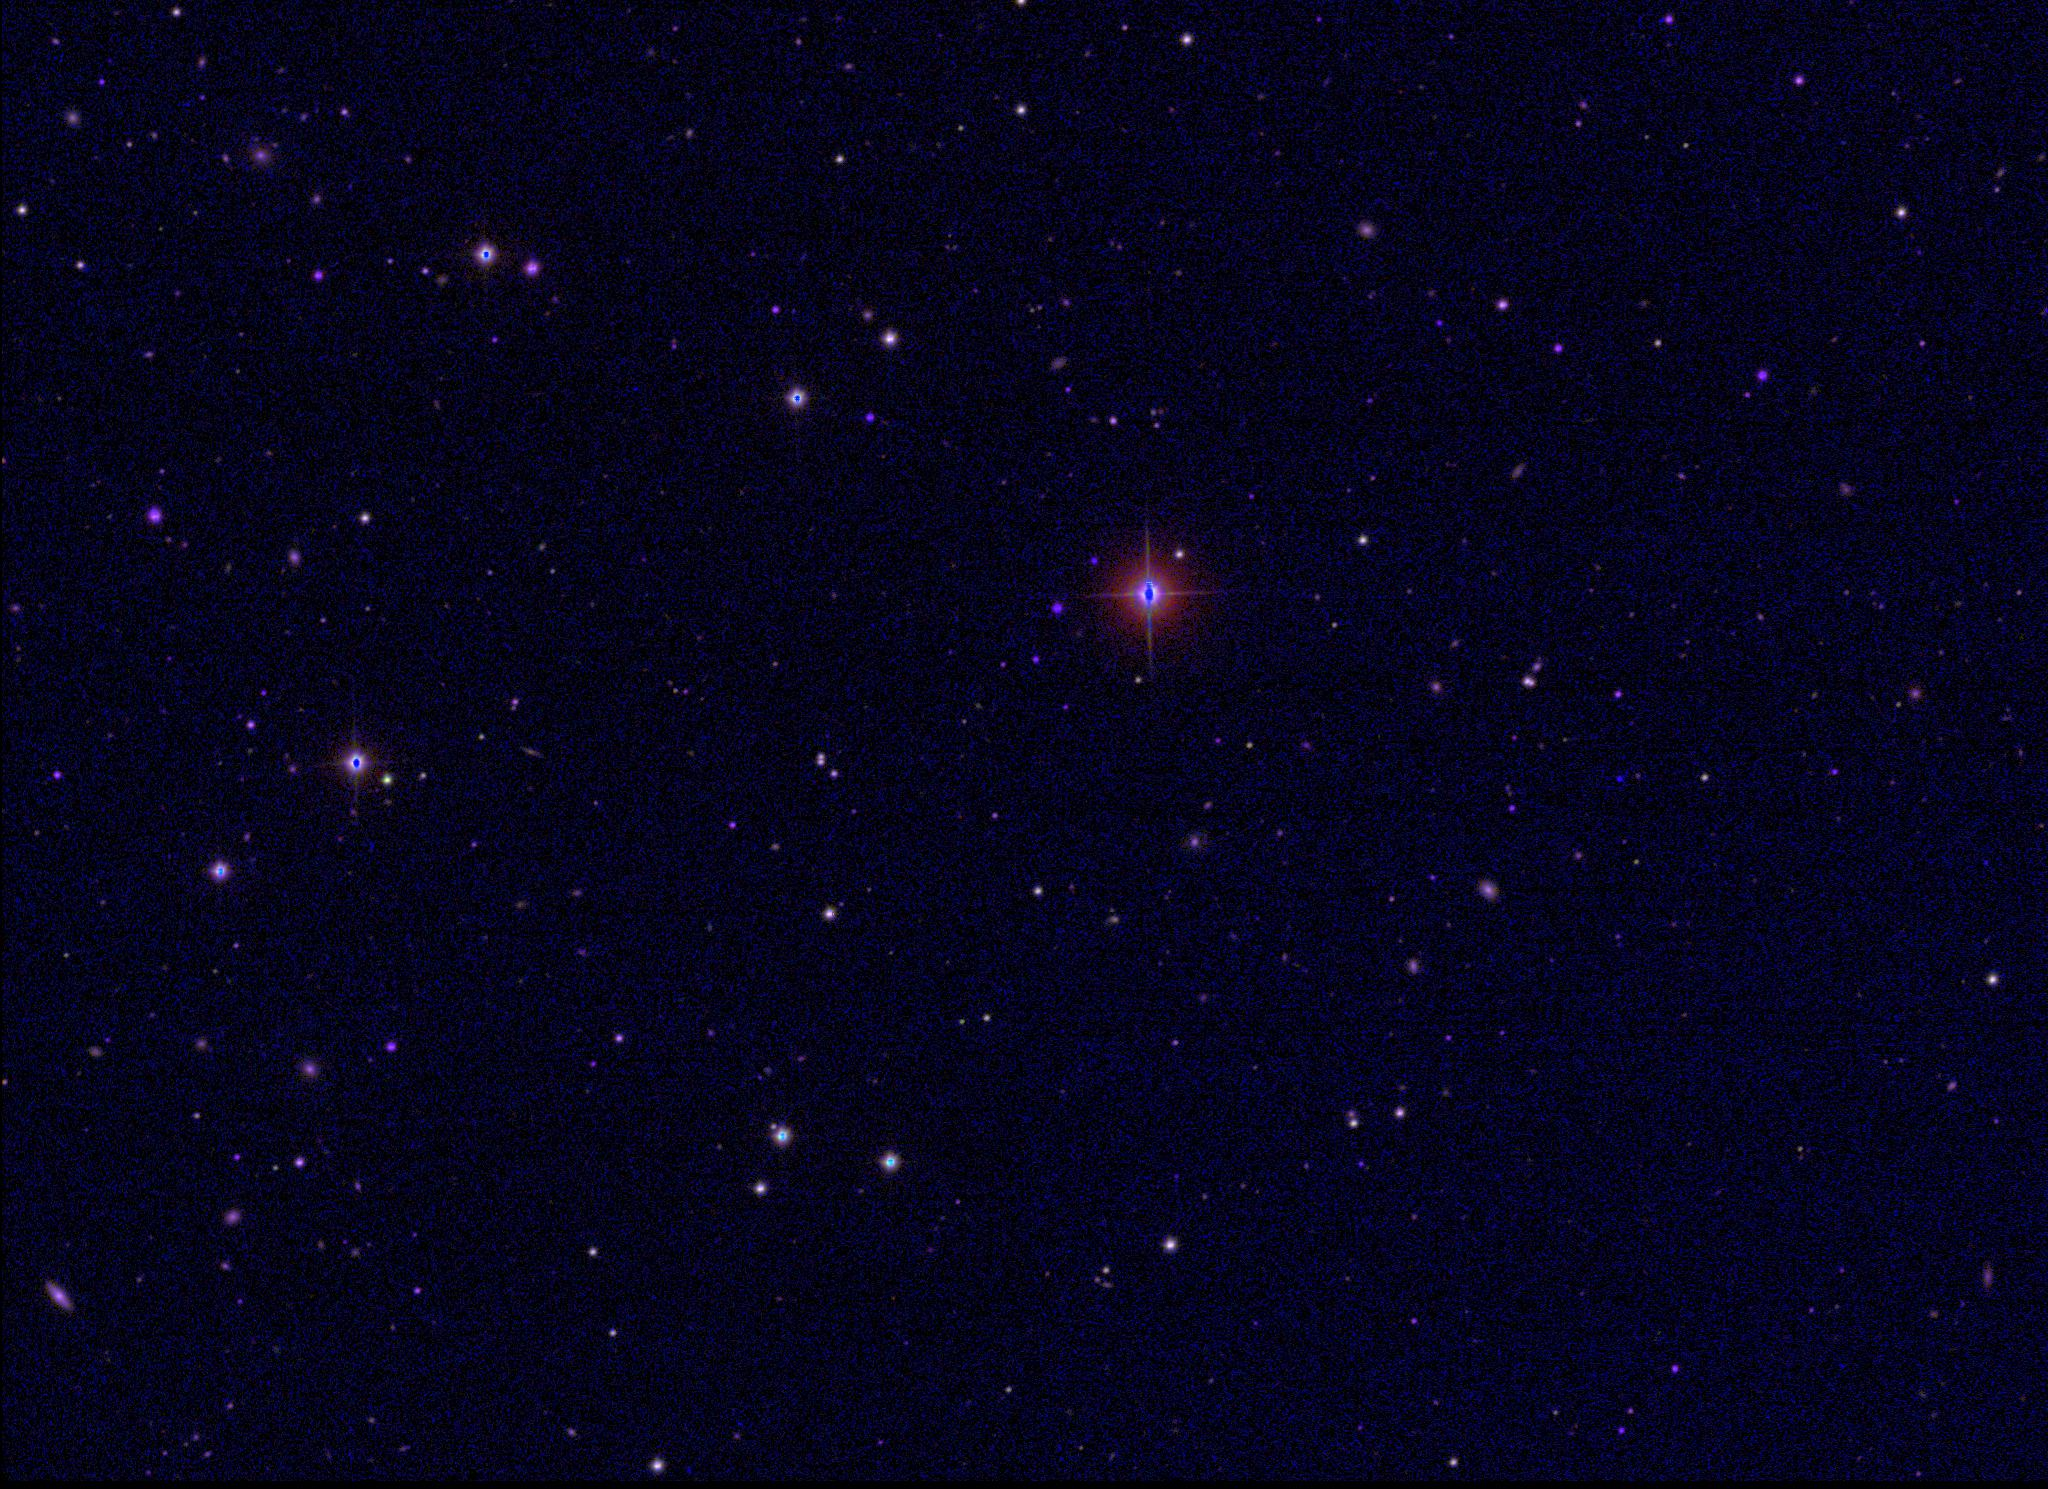L: (1611, 772, 1625, 784)
